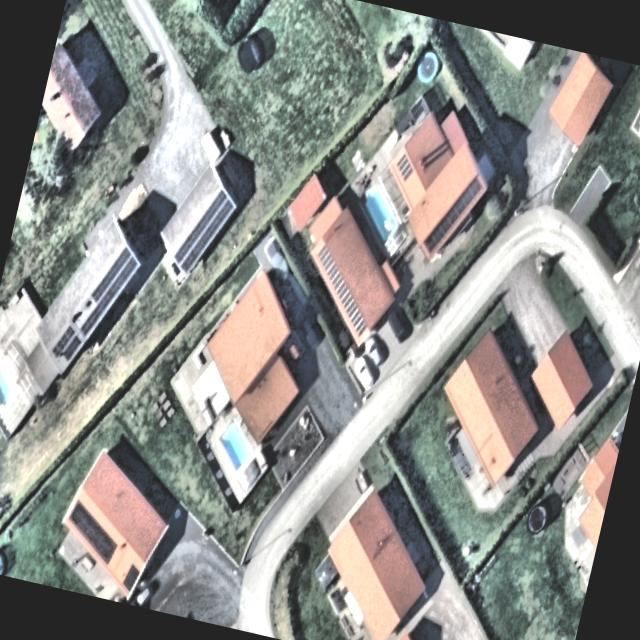roof_pv: (58, 493, 126, 567), (337, 293, 374, 341), (322, 260, 358, 308), (308, 238, 342, 282)
